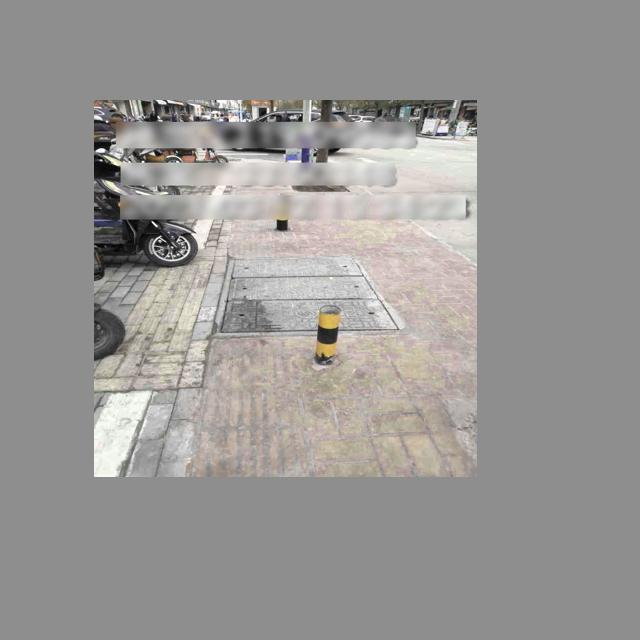good: (215, 251, 397, 330)
